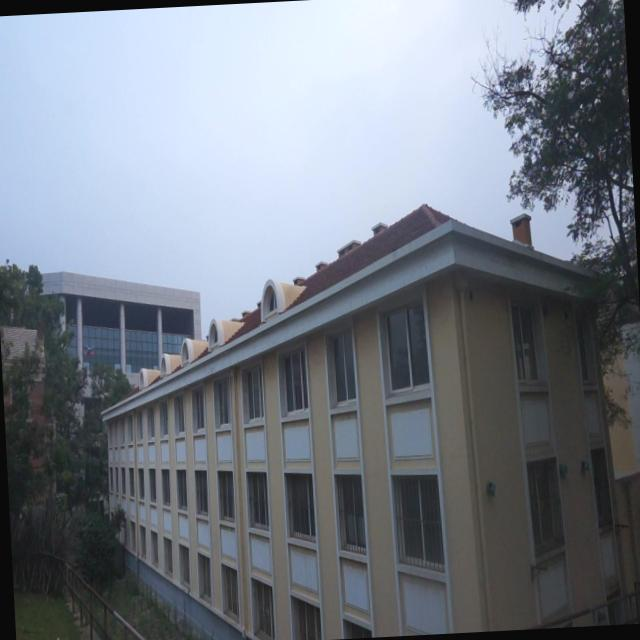drone: (82, 335, 97, 365)
